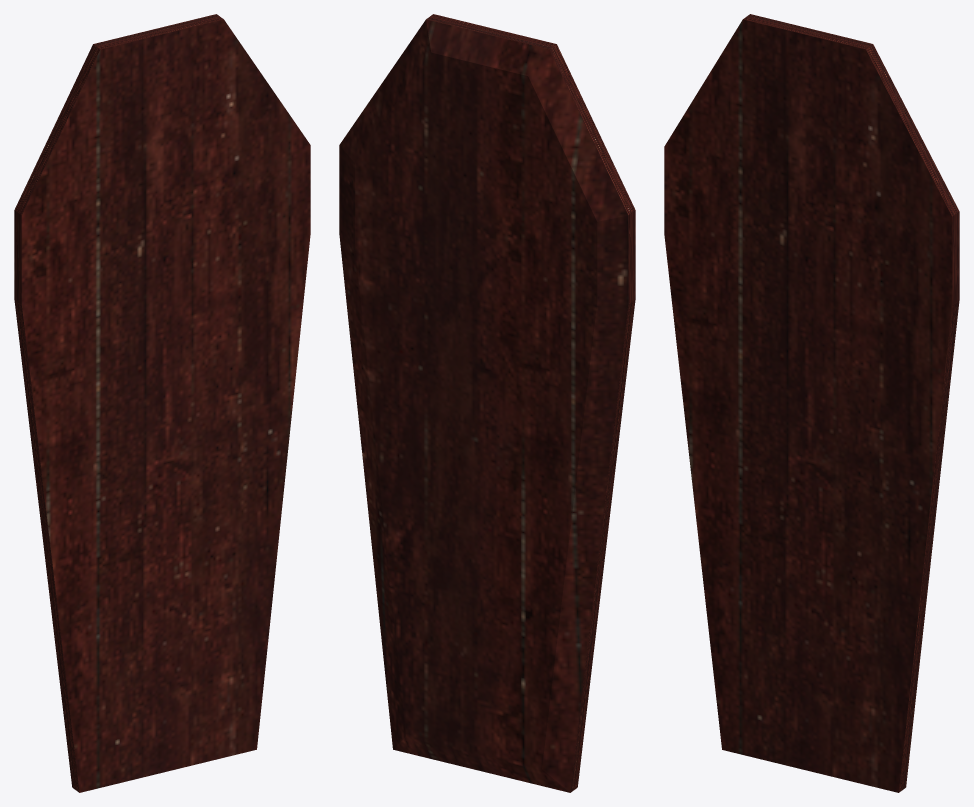
Rendered from coffin_lid00.fbx.
3 renders of one model, left to right at view 1: azimuth 30°, elevation 25°; view 2: azimuth 150°, elevation 25°; view 3: azimuth 330°, elevation 25°, orthographic.
Visible parts, largest first — view 1: Cube.001; view 2: Cube.001; view 3: Cube.001.
Part boxes in pixels (x1,y1,x2,y2): Cube.001: (14,14,310,792); Cube.001: (339,14,635,792); Cube.001: (664,14,959,792).
Bounding box in the file's own units: 75.94 × 186 × 6.88.
Materials: 1 (1 with a texture image).
